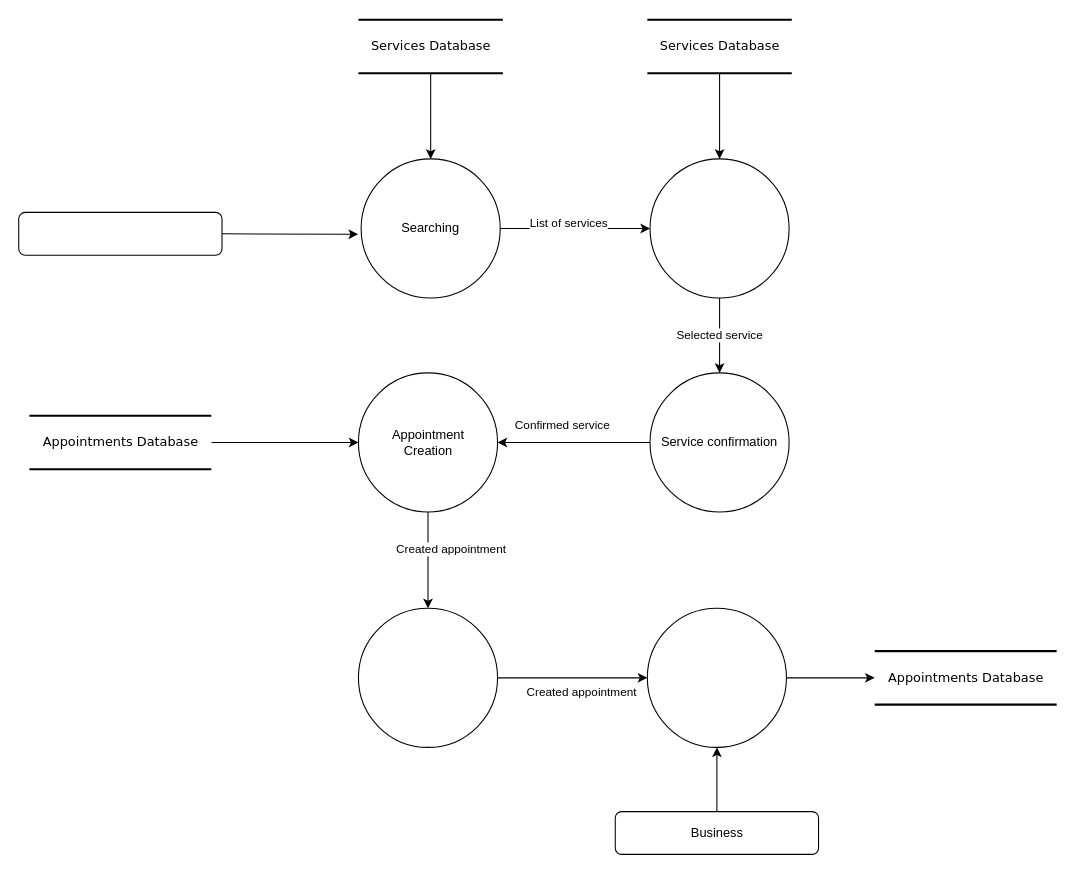
The diagram is 1076 pixels wide and 873 high, and some of its shapes have lost their labels. The shapes that lost their labels are listed below. From the top down, each one's centre as x and y in pixels, then its label:
the point at 120,233: Client
the point at 719,228: Service selection process
the point at 427,677: Appointment confirmation
the point at 716,677: Appointment Verification
